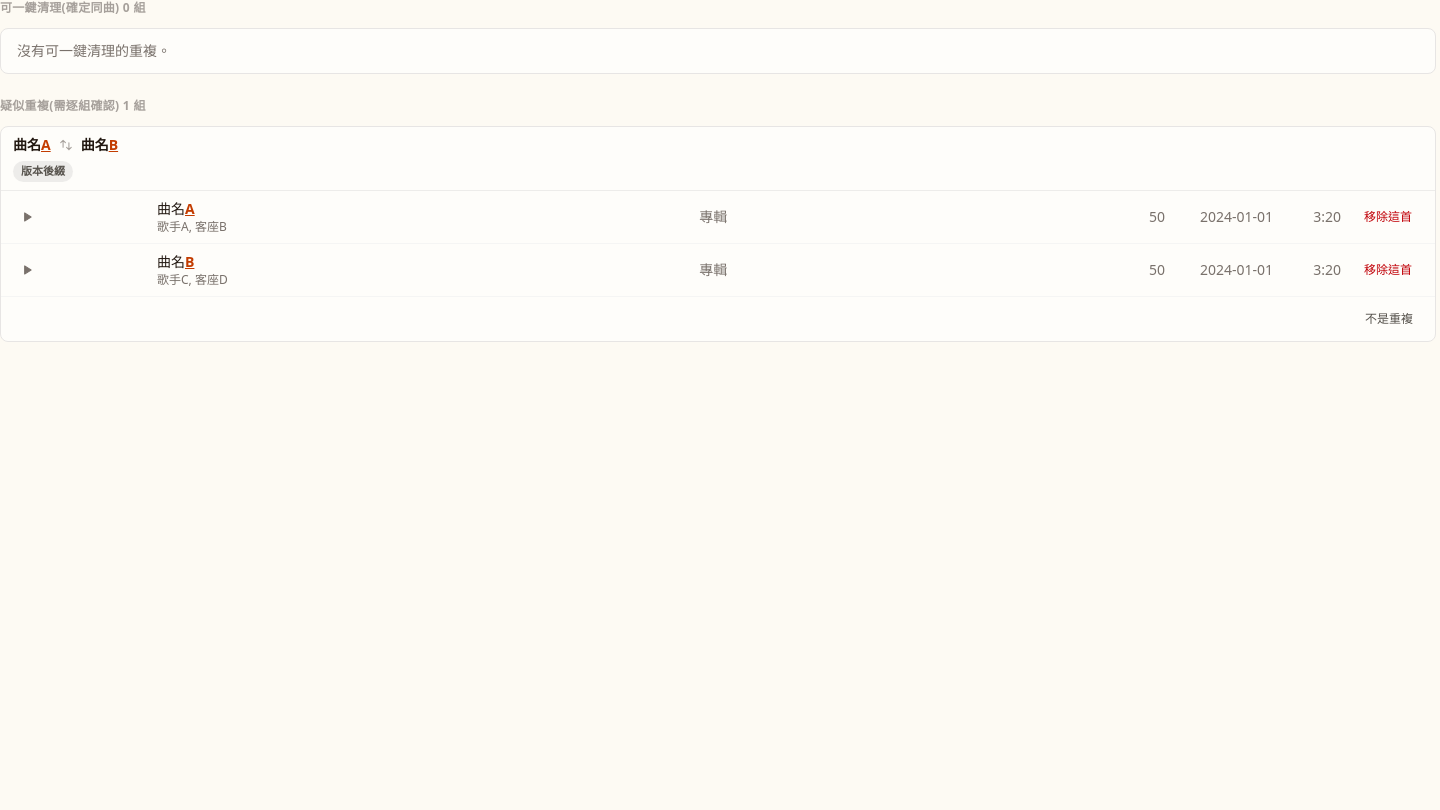
it: CleanupView 失敗回饋（mutation onError 不誤報成功） › test_onError_移除重試後清除錯誤（F4）
Click the button "移除這首" in the row of "歌手C, 客座D" at (1388, 270), box [1353, 256, 1423, 284]
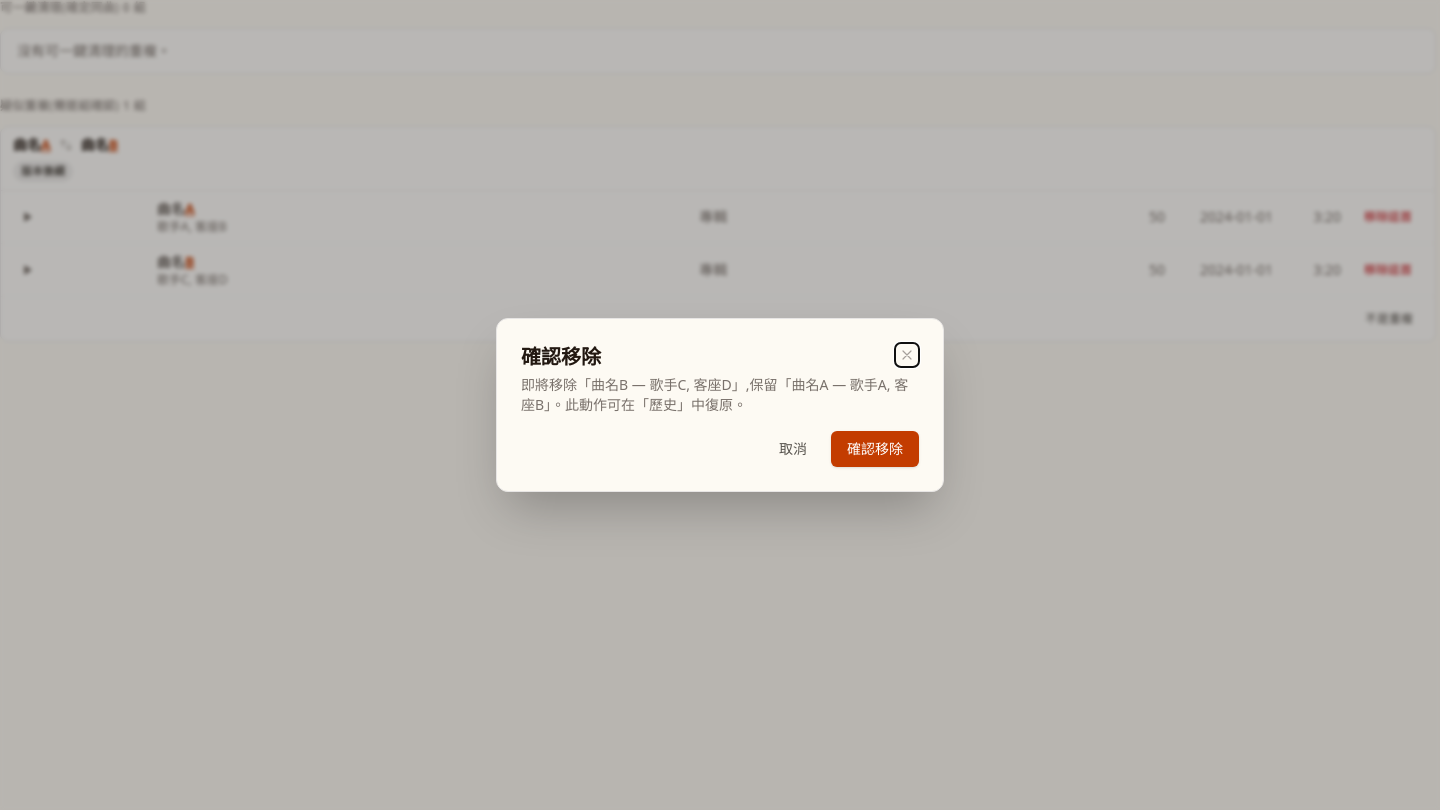
Click the button "確認移除" at (875, 449), box [831, 431, 919, 467]
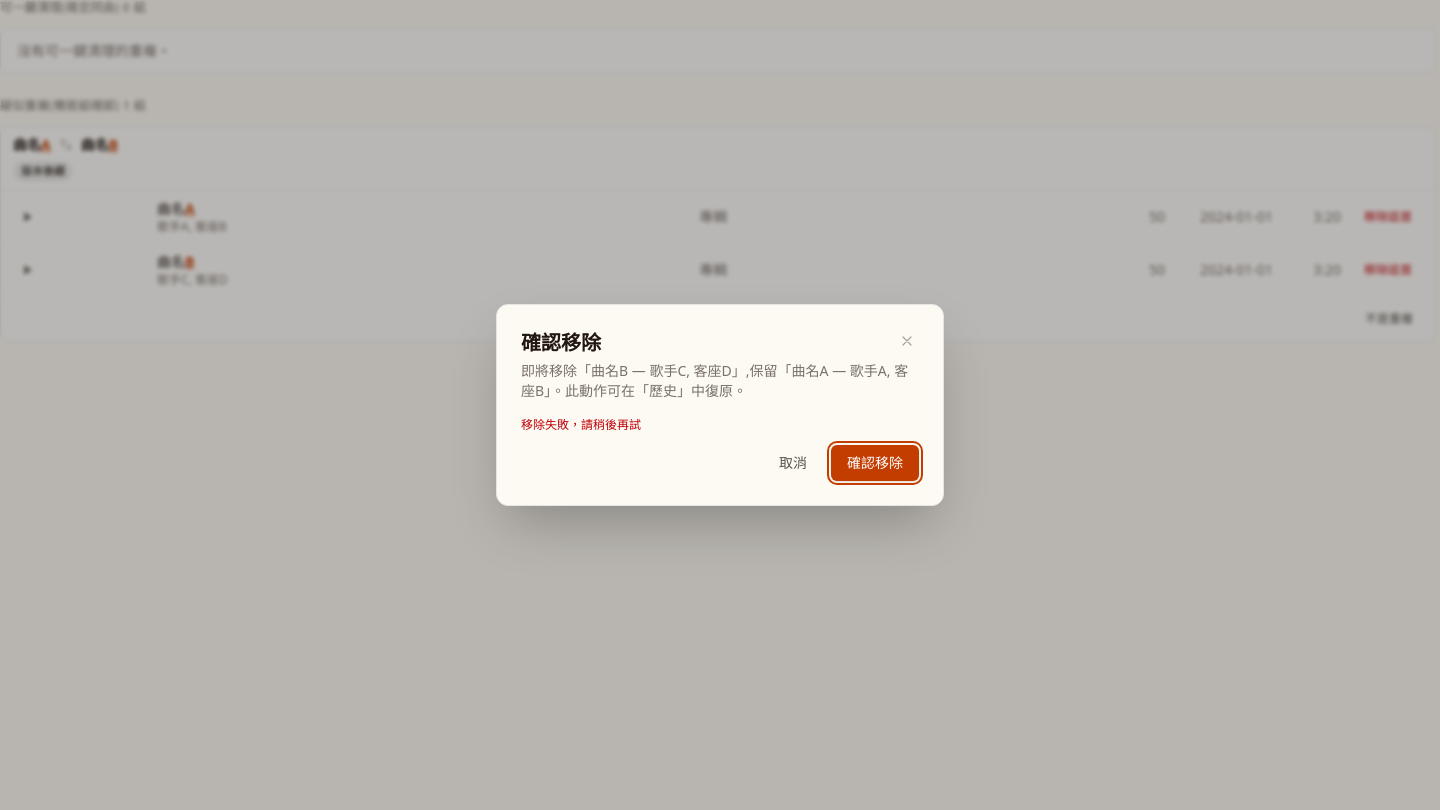
Check: the message shows "失敗", box [521, 416, 641, 433]
Click the button "確認移除" at (875, 463), box [831, 445, 919, 481]
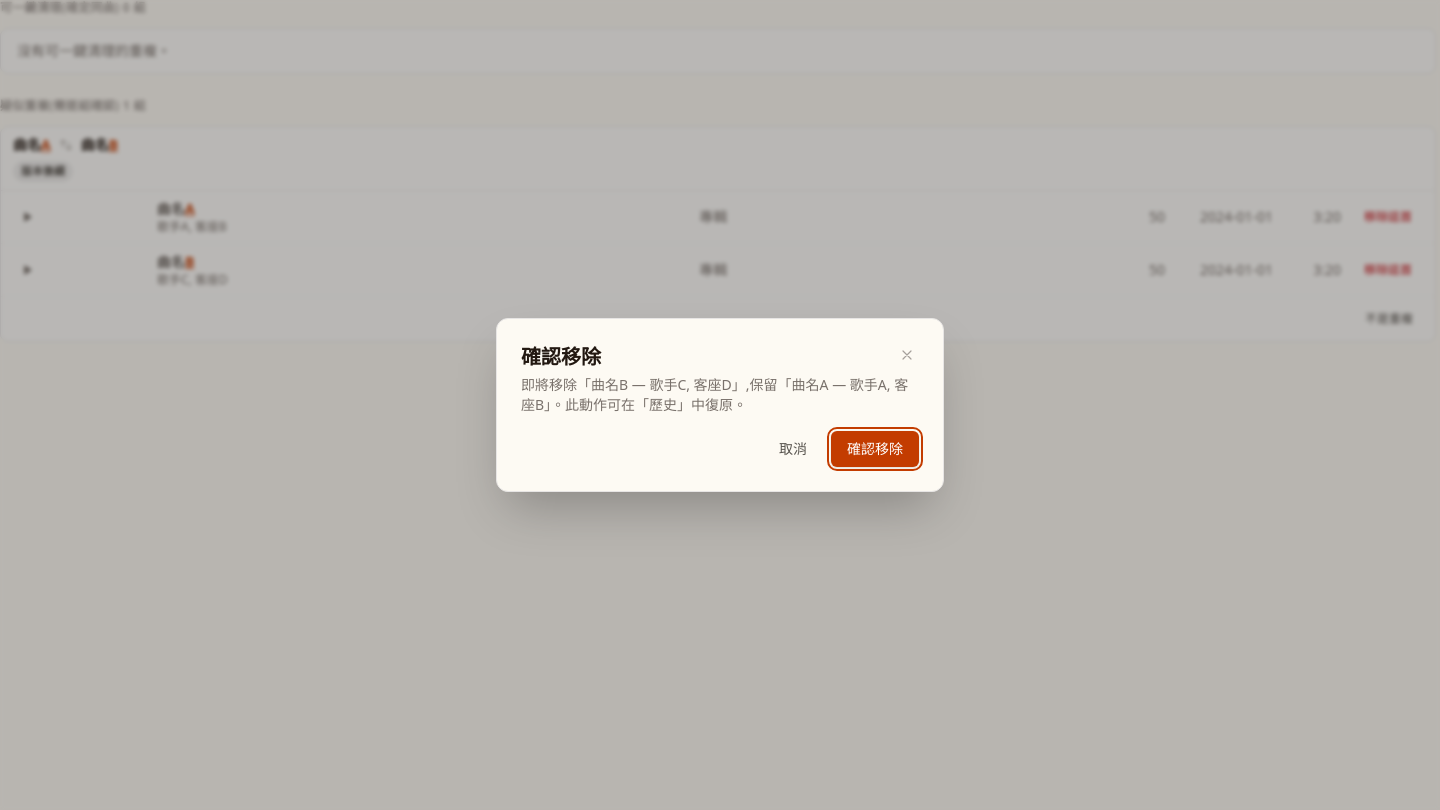
Check: the dialog is shown, box [496, 318, 944, 492]
Check: the message "移除失敗，請稍後再試" is gone
